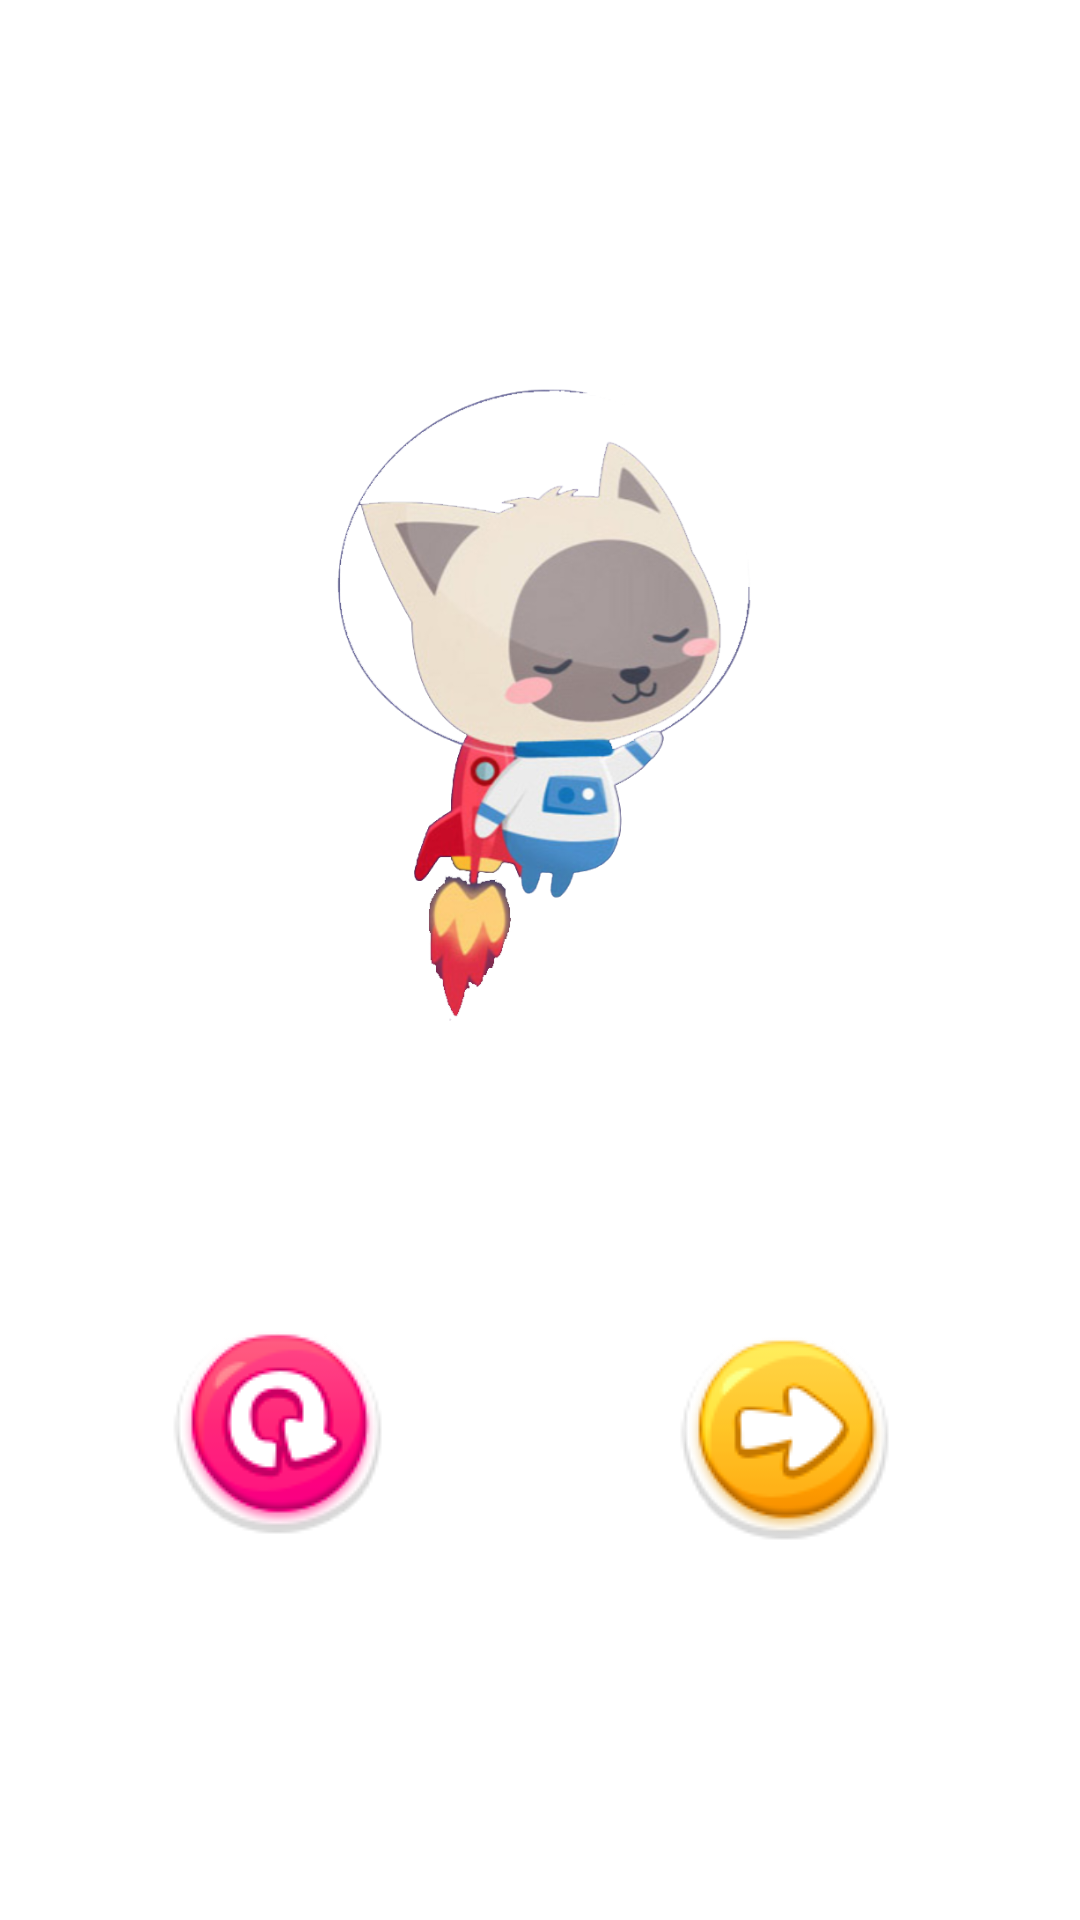

Where icons sit on this 1080*1920 app screen, as box(x1, y1, x2, y2):
next: box(684, 1340, 887, 1539)
restart: box(177, 1334, 380, 1533)
